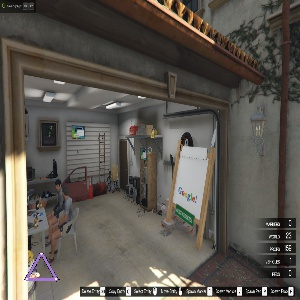triangle: (21, 248, 60, 285)
